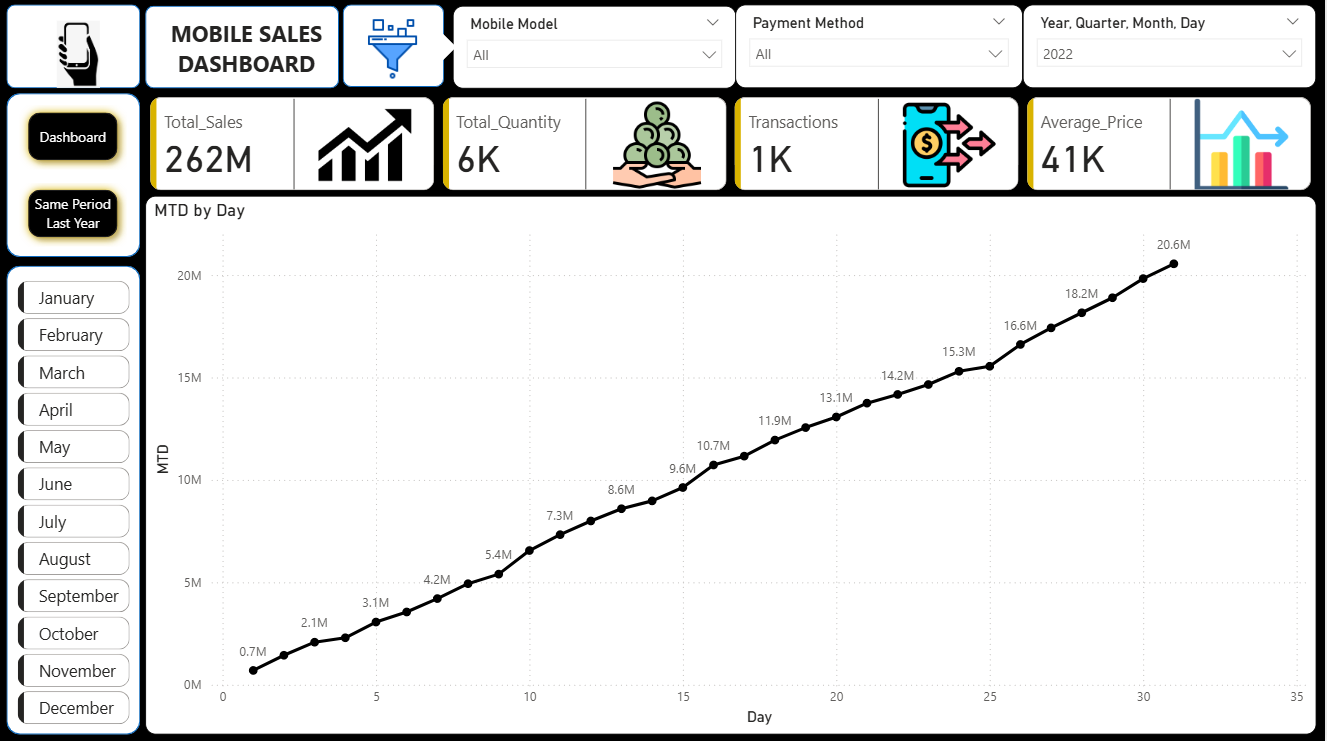

The dashboard page shown, as its layout file describes it:
{"tool":"powerbi","page":{"name":"MTD Report","canvas":[1280,720],"ordinal":1},"visuals":[{"type":"shape","box":[7.2,7.2,129.1,80.8],"z":0},{"type":"image","box":[35,18.1,83.2,74.8],"z":1000},{"type":"shape","box":[7.2,92.9,129.1,158],"z":2000},{"type":"slicer","fields":{"Values":["mobile_sales_data.Mobile Model"]},"box":[437.9,8.4,273.9,79.6],"z":4000},{"type":"slicer","fields":{"Values":["mobile_sales_data.Payment Method"]},"box":[710.6,7.2,277.5,80.8],"z":5000},{"type":"slicer","fields":{"Values":["custom_calander.Date.Variation.Date Hierarchy.Year","custom_calander.Date.Variation.Date Hierarchy.Quarter","custom_calander.Date.Variation.Date Hierarchy.Month","custom_calander.Date.Variation.Date Hierarchy.Day"]},"box":[988.1,7.2,283.5,80.8],"z":6000},{"type":"shape","box":[331.8,7.2,97.7,79.6],"z":7000},{"type":"image","box":[342.6,15.7,74.8,68.8],"z":8000},{"type":"shape","box":[405.4,30.2,36.2,36.2],"z":9000},{"type":"shape","box":[141.2,8.4,187,79.6],"z":10000},{"type":"textbox","box":[158,15.7,161.7,68.8],"z":11000},{"type":"lineChart","fields":{"Y":["mobile_sales_data.MTD"],"Category":["custom_calander.Date.Variation.Date Hierarchy.Year","custom_calander.Date.Variation.Date Hierarchy.Quarter","custom_calander.Date.Variation.Date Hierarchy.Month","custom_calander.Date.Variation.Date Hierarchy.Day"]},"box":[141.2,191.8,1130.4,520],"z":12000},{"type":"shape","box":[7.2,259.4,129.1,452.4],"z":13000},{"type":"advancedSlicerVisual","fields":{"Values":["custom_calander.Date.Variation.Date Hierarchy.Month"]},"box":[13.3,269,118.2,442.8],"z":14000},{"type":"pageNavigator","box":[19.3,102.5,105,139.9],"z":15000},{"type":"cardVisual","fields":{"Data":["mobile_sales_data.Total_Sales","mobile_sales_data.Total_Quantity","mobile_sales_data.Transactions","mobile_sales_data.Average_Price"]},"box":[141.2,91.7,1130.4,100.1],"z":15001}]}

Visuals, with their boxes in screenshot pixels (x1, y1, x2, y2), scaled from the page's 1280x720 canvas onto the 1327x741 screenshot:
shape: x1=7 y1=7 x2=141 y2=91
image: x1=36 y1=19 x2=123 y2=96
shape: x1=7 y1=96 x2=141 y2=258
slicer - mobile_sales_data.Mobile Model: x1=454 y1=9 x2=738 y2=91
slicer - mobile_sales_data.Payment Method: x1=737 y1=7 x2=1024 y2=91
slicer - custom_calander.Date.Variation.Date Hierarchy.Year x custom_calander.Date.Variation.Date Hierarchy.Quarter: x1=1024 y1=7 x2=1318 y2=91
shape: x1=344 y1=7 x2=445 y2=89
image: x1=355 y1=16 x2=433 y2=87
shape: x1=420 y1=31 x2=458 y2=68
shape: x1=146 y1=9 x2=340 y2=91
textbox: x1=164 y1=16 x2=331 y2=87
lineChart - mobile_sales_data.MTD x custom_calander.Date.Variation.Date Hierarchy.Year: x1=146 y1=197 x2=1318 y2=733
shape: x1=7 y1=267 x2=141 y2=733
advancedSlicerVisual - custom_calander.Date.Variation.Date Hierarchy.Month: x1=14 y1=277 x2=136 y2=733
pageNavigator: x1=20 y1=105 x2=129 y2=249
cardVisual - mobile_sales_data.Total_Sales x mobile_sales_data.Total_Quantity: x1=146 y1=94 x2=1318 y2=197
